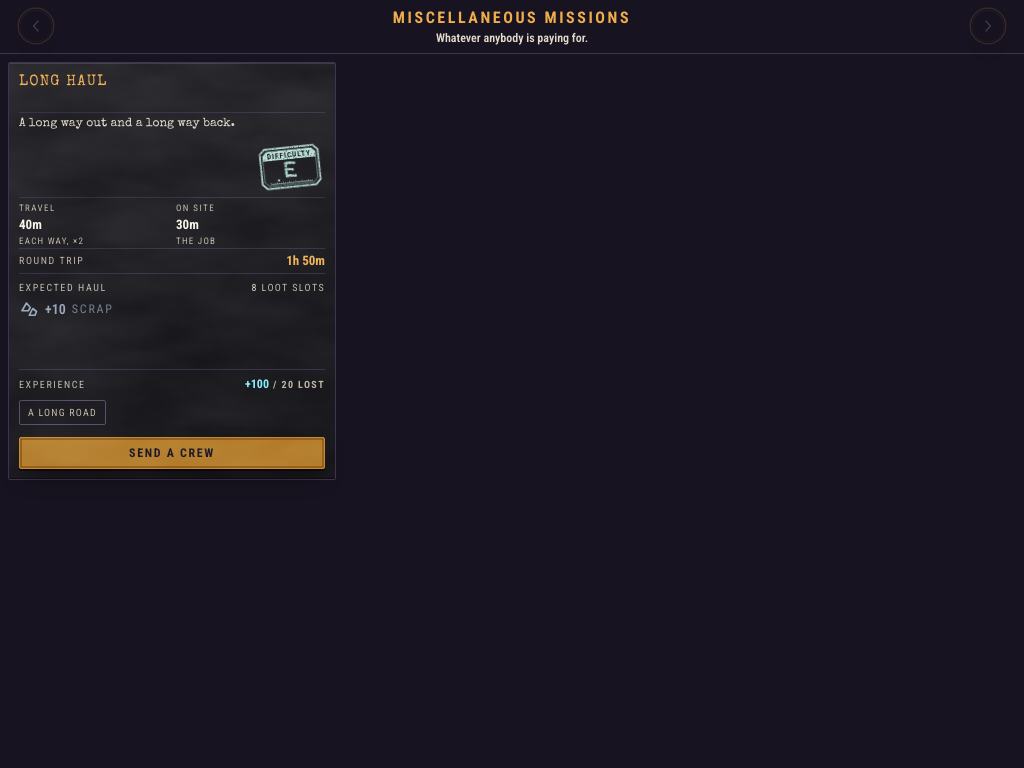
picking the people first › refuses the send and says why, without putting anybody back
Click the button "Send a crew".
click(172, 452)  # box [19,436,325,468]
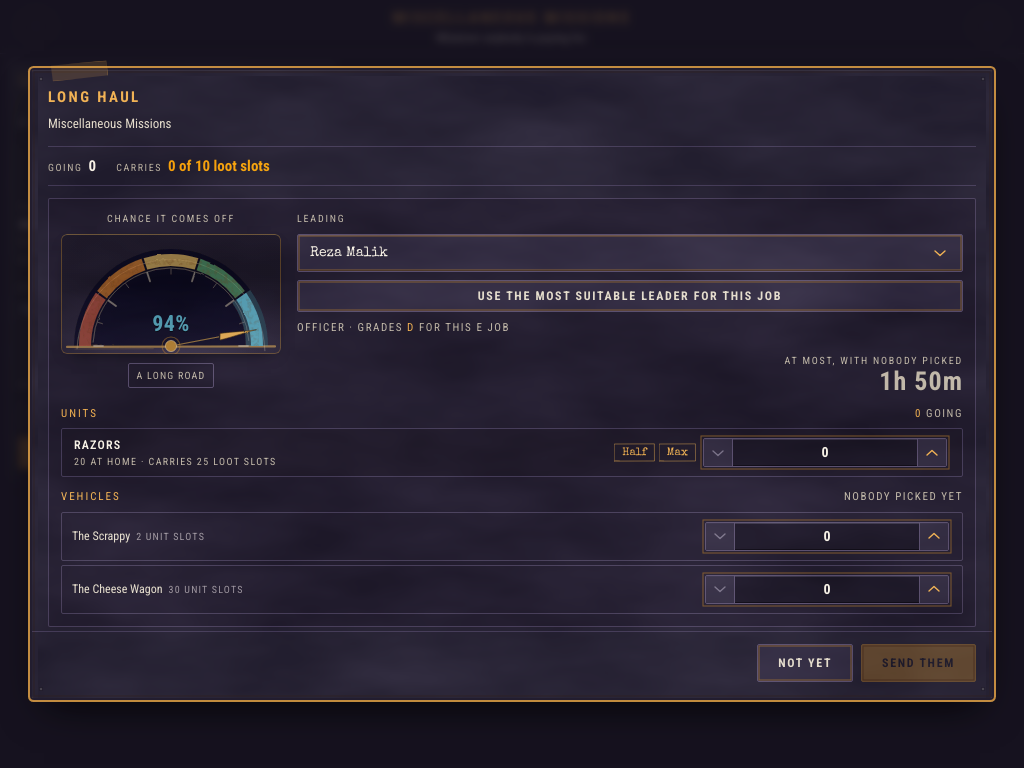
Replace the text in the number field named "How many Razors" with "9" at [825, 453], box [732,439,918,466]
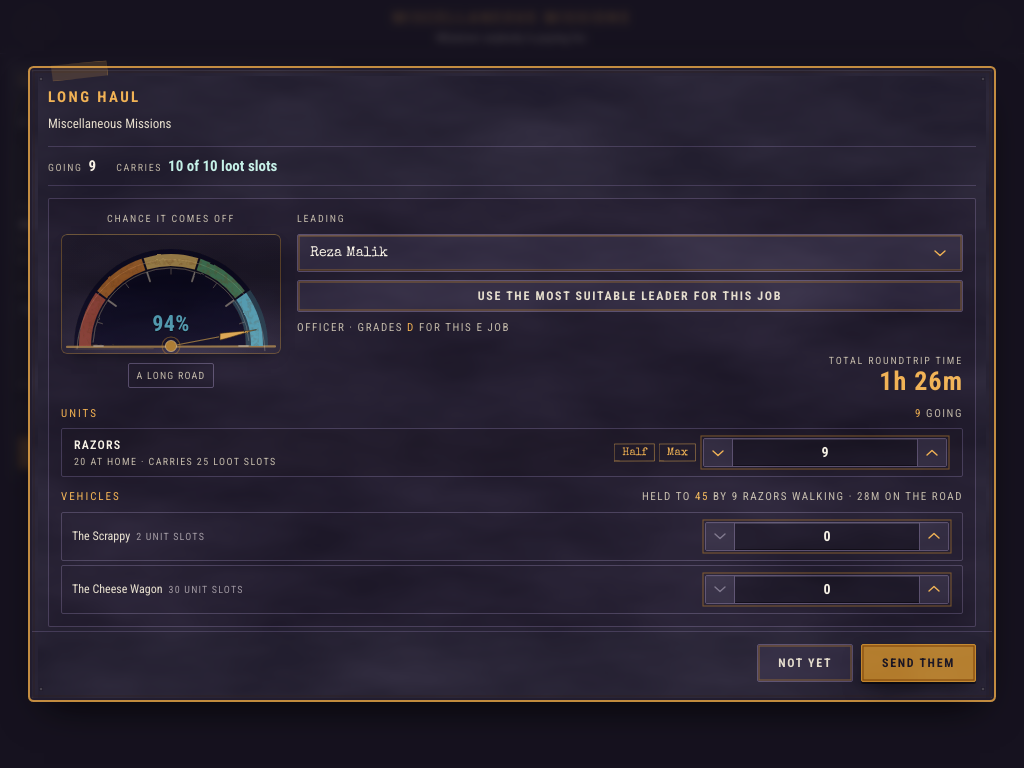
expect the button with test id "confirm-send" is enabled: met, box [861,644,976,682]
Replace the text in the number field named "How many Scrappy" with "1" at [827, 536], box [734,523,920,550]
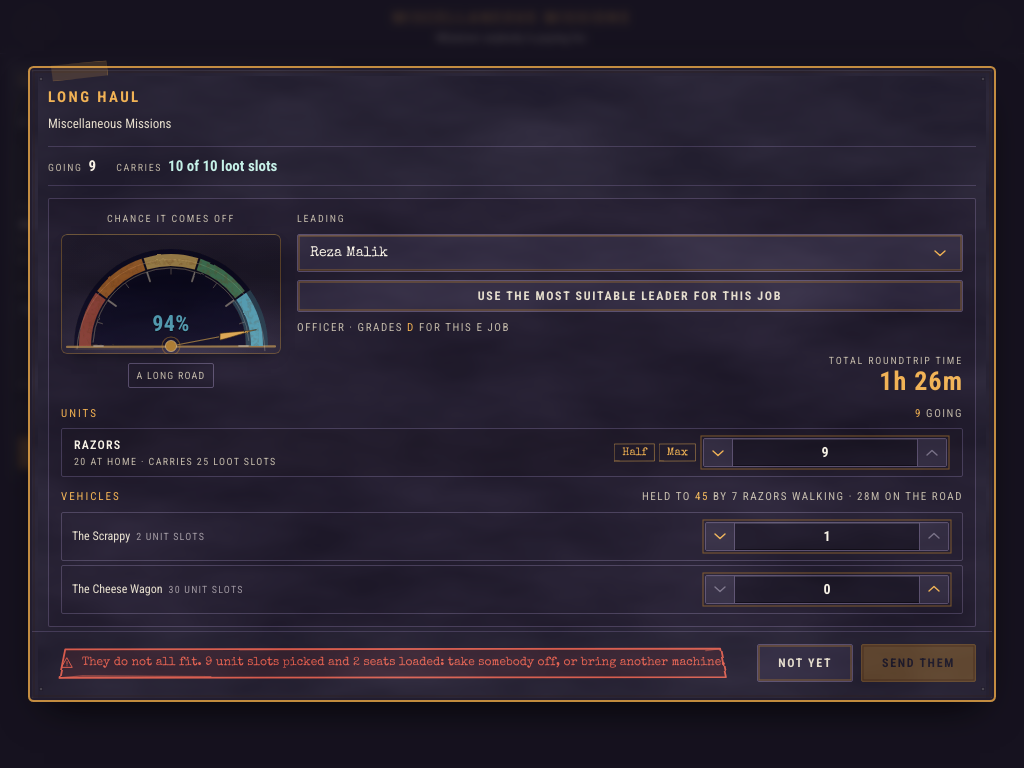
expect the message with test id "mission-overloaded" is shown: met, box [48,647,737,679]
expect the button with test id "confirm-send" is disabled: met, box [861,644,976,682]
